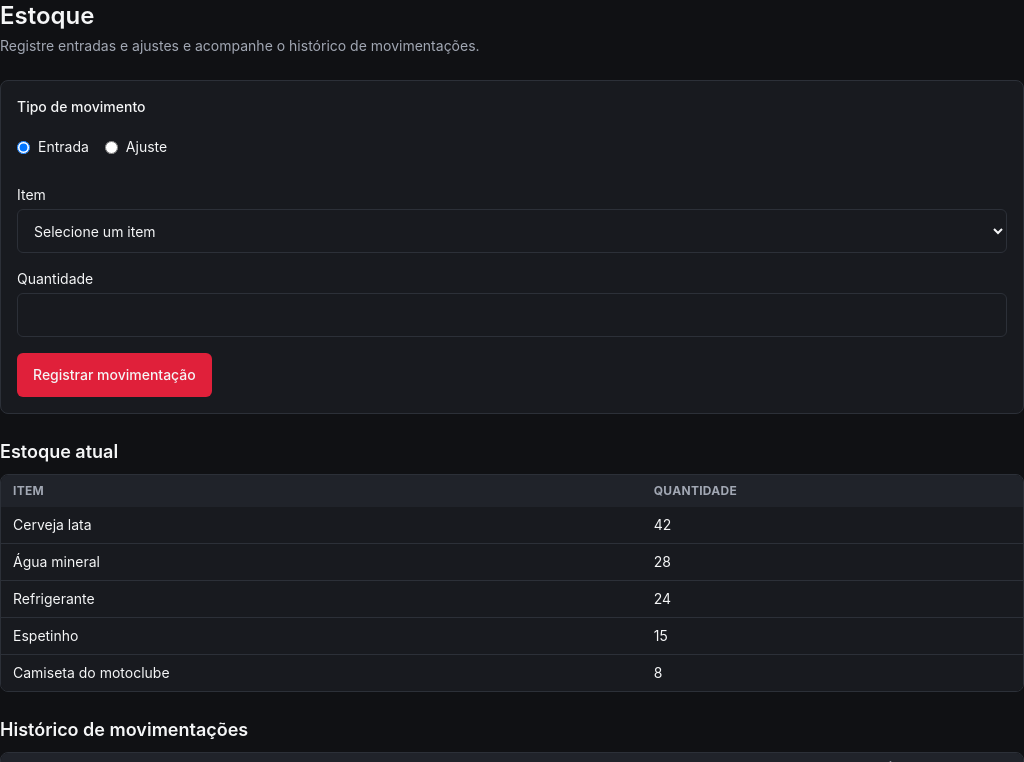
InventoryView adjustment guidance › says what a negative balance means before the operator creates one
The image size is (1024, 762).
Click the radio button labelled "Ajuste".
click(111, 147)  # box [105,140,118,154]
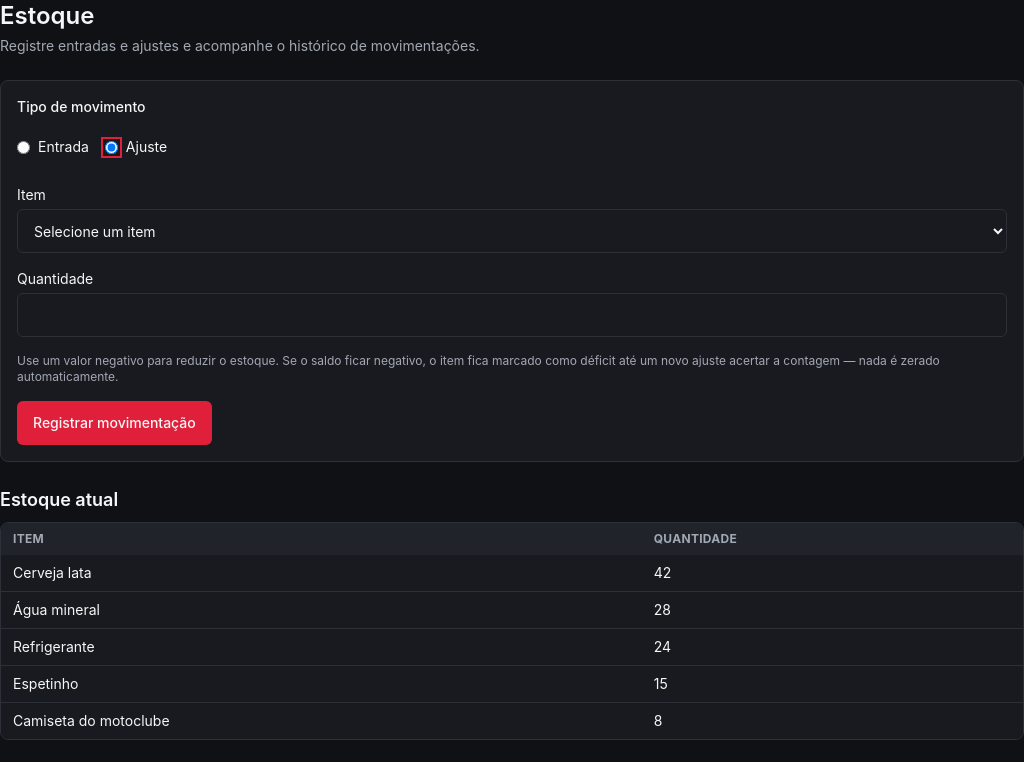
Expected: the text "Se o saldo ficar negativo, o item fica marcado como déficit" is shown, [17,353,940,384]
